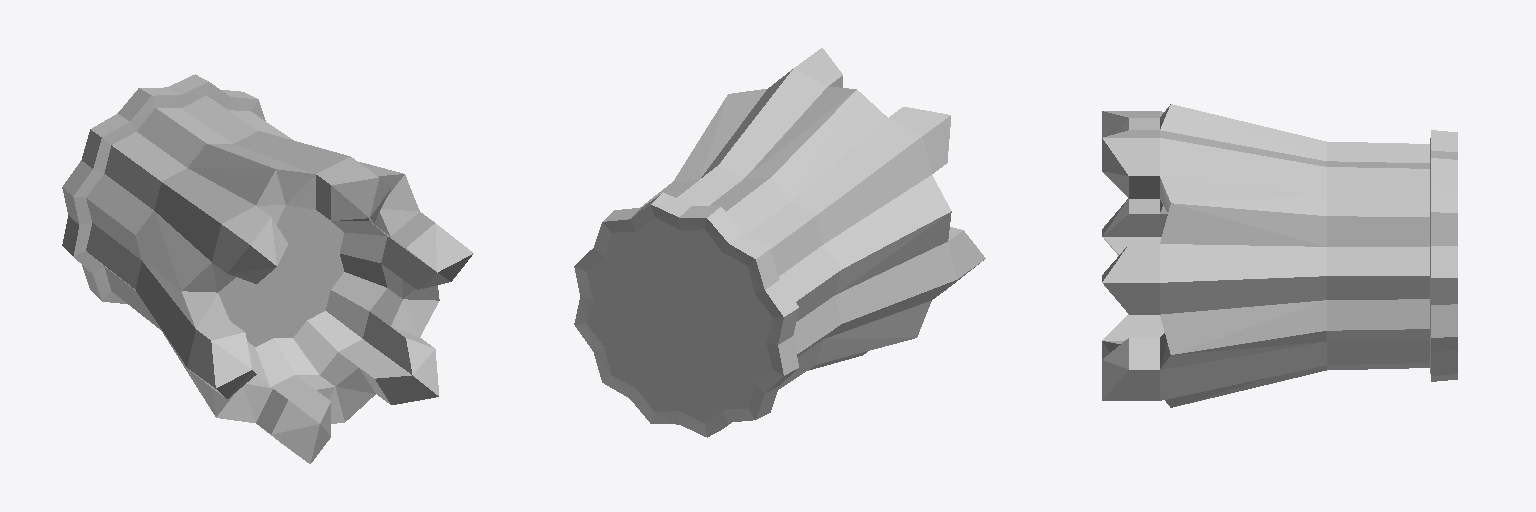
The model's file is Fire.obj.
The picture shows the model from 3 angles: view 1: azimuth 30°, elevation 25°; view 2: azimuth 150°, elevation 25°; view 3: azimuth 270°, elevation 25°; orthographic projection.
Parts seen in each view (by area): view 1: Cylinder; view 2: Cylinder; view 3: Cylinder.
Part boxes in pixels (x1,y1,x2,y2): Cylinder: (62, 74, 473, 463); Cylinder: (574, 48, 985, 437); Cylinder: (1102, 104, 1457, 407).
Size of the model in its own units: 1.93 by 1.93 by 2.3.